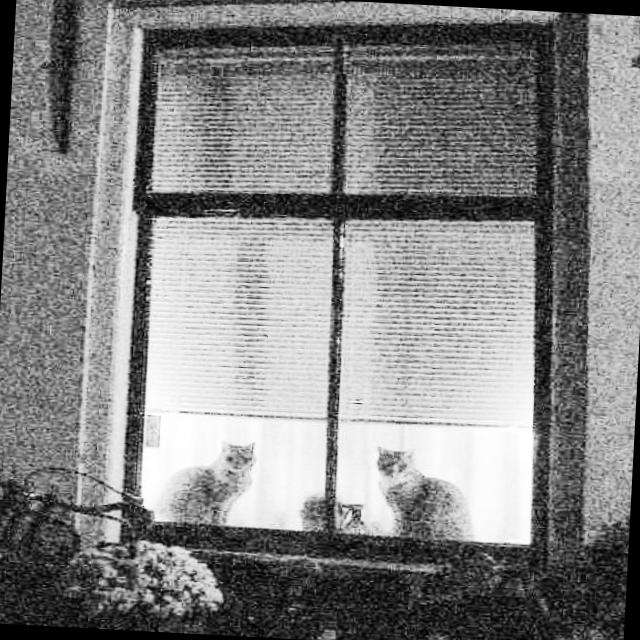Bicycle: (0, 449, 227, 635)
Cat: (152, 437, 260, 531), (376, 453, 474, 547)
